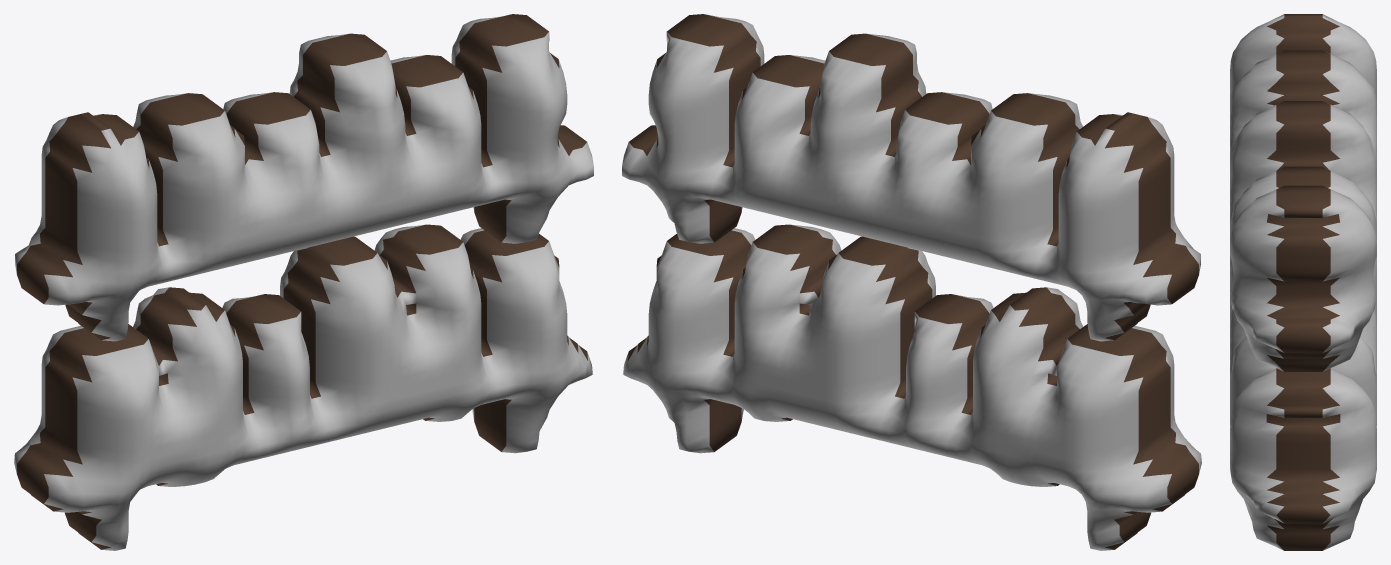
File: jars.glb
The picture shows the model from 3 angles, left to right: view 1: azimuth 30°, elevation 25°; view 2: azimuth 150°, elevation 25°; view 3: azimuth 270°, elevation 25°; orthographic projection. The views are drawn at different scales.
Visible parts, largest first — view 1: jars; view 2: jars; view 3: jars.
Part boxes in pixels (<box>): jars: <box>14,14,593,550</box>; jars: <box>622,14,1201,550</box>; jars: <box>1230,14,1376,550</box>.
Bounding box in the file's own units: 0.804 × 0.6066 × 0.22.
